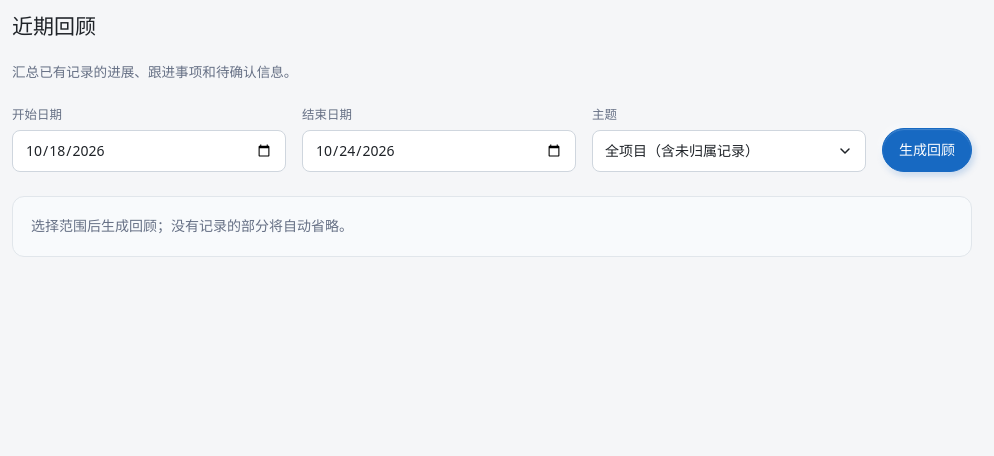
Test case: 手动生成、引用跳转及记录变化提示
The image size is (994, 456).
Click the button "生成回顾".
click(927, 150)  # box [882,128,972,172]
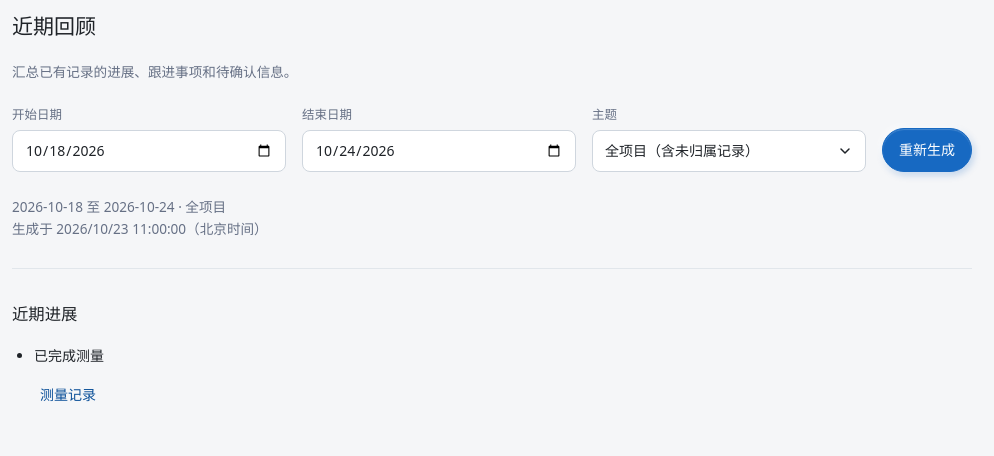
Click the button "测量记录".
click(68, 396)  # box [34,374,102,418]
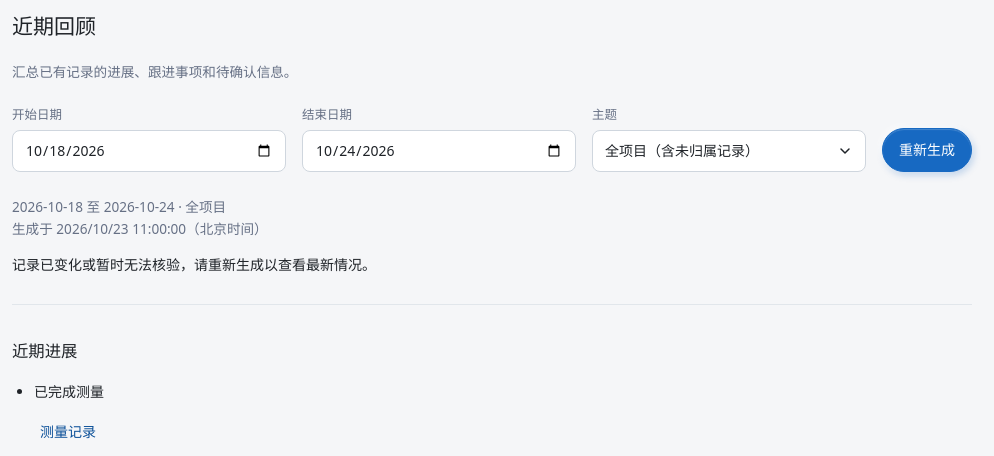
Check: the text "记录已变化或暂时无法核验，请重新生成以查看最新情况。" is shown, box [12,255,376,274]
